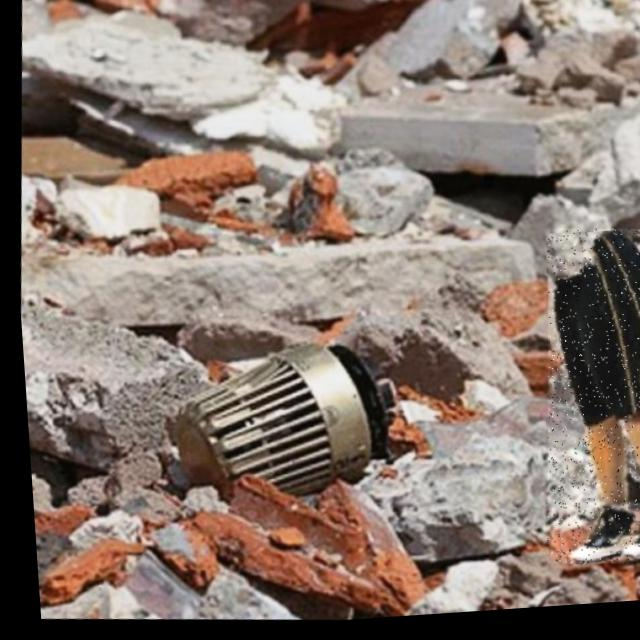Person in Rubble: (521, 229, 640, 577)
